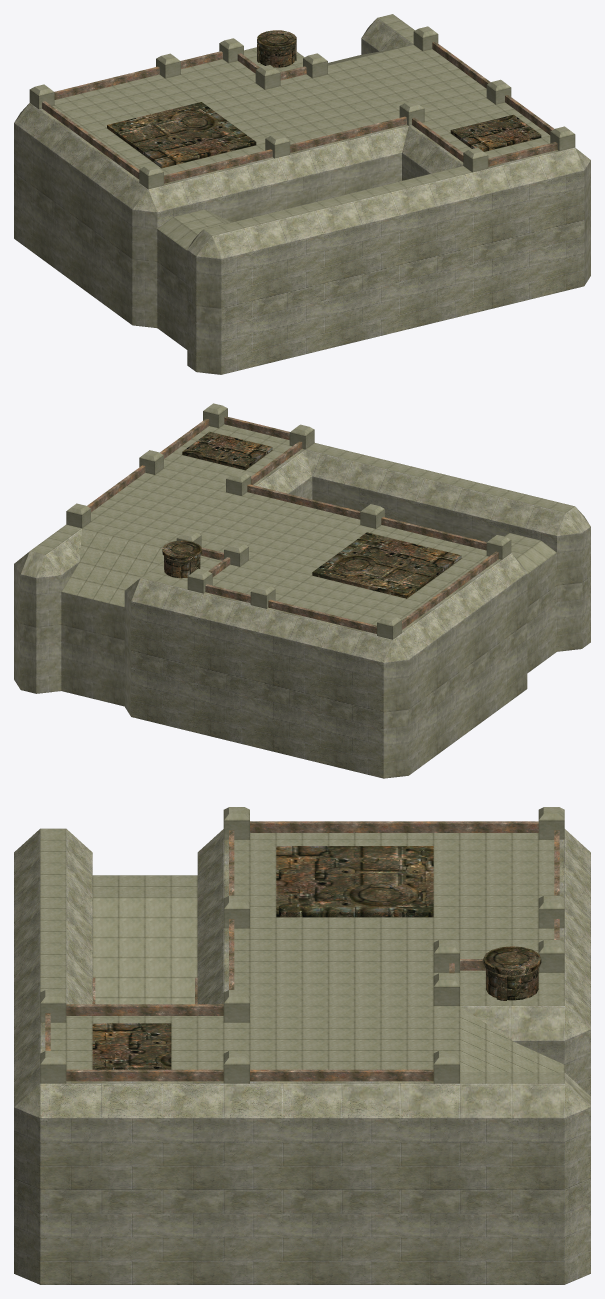
Rendered from poi_all_bunker_allum_mine_r0_mesh_l0.fbx.
3 renders of one model, top to bottom at view 1: azimuth 30°, elevation 25°; view 2: azimuth 150°, elevation 25°; view 3: azimuth 270°, elevation 25°, orthographic. The views are drawn at different scales.
Visible parts, largest first — view 1: mesh_node; view 2: mesh_node; view 3: mesh_node.
Boxes of the visible parts, <box> form: mesh_node: <box>14,14,590,374</box>; mesh_node: <box>14,403,590,778</box>; mesh_node: <box>14,807,590,1284</box>.
Bounding box in the file's own units: 25 × 11.3 × 22.
